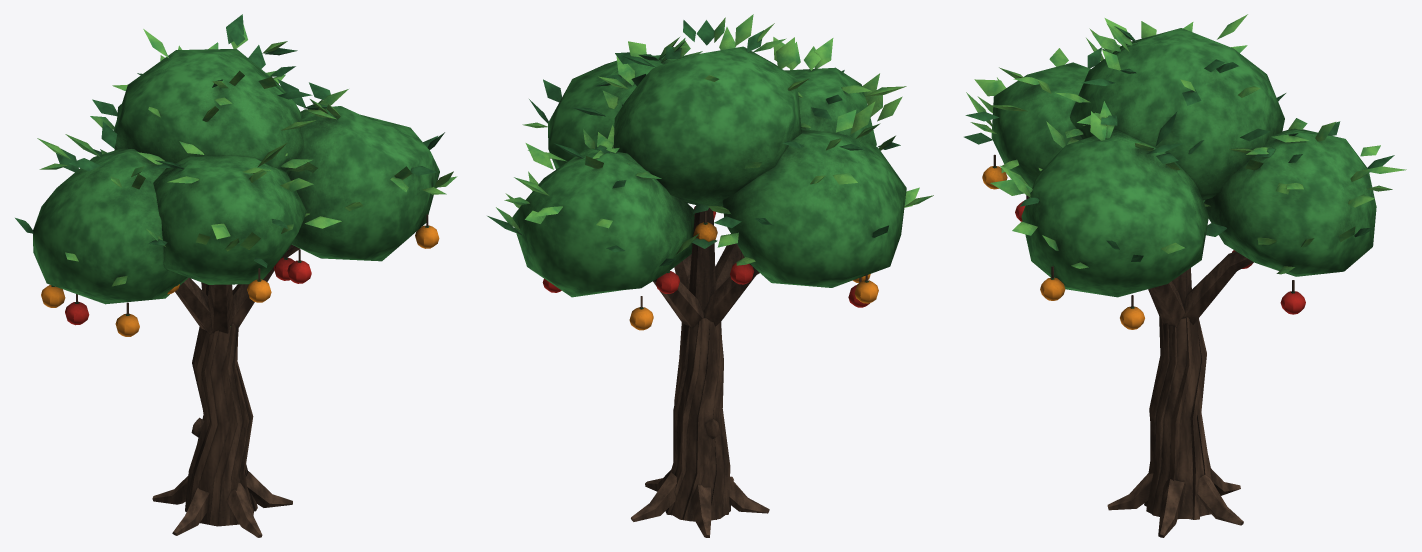
Rendered from arbol_frutal.fbx.
The picture shows the model from 3 angles, left to right: view 1: azimuth 30°, elevation 25°; view 2: azimuth 150°, elevation 25°; view 3: azimuth 270°, elevation 25°; orthographic projection.
Parts seen in each view (by area): view 1: arbol_frutal; view 2: arbol_frutal; view 3: arbol_frutal.
Part boxes in pixels (x1,y1,x2,y2): arbol_frutal: [15, 14, 457, 537]; arbol_frutal: [487, 14, 933, 537]; arbol_frutal: [964, 14, 1406, 537].
Bounding box in the file's own units: 7.17 × 8.24 × 6.98.
Materials: 1 (1 with a texture image).
